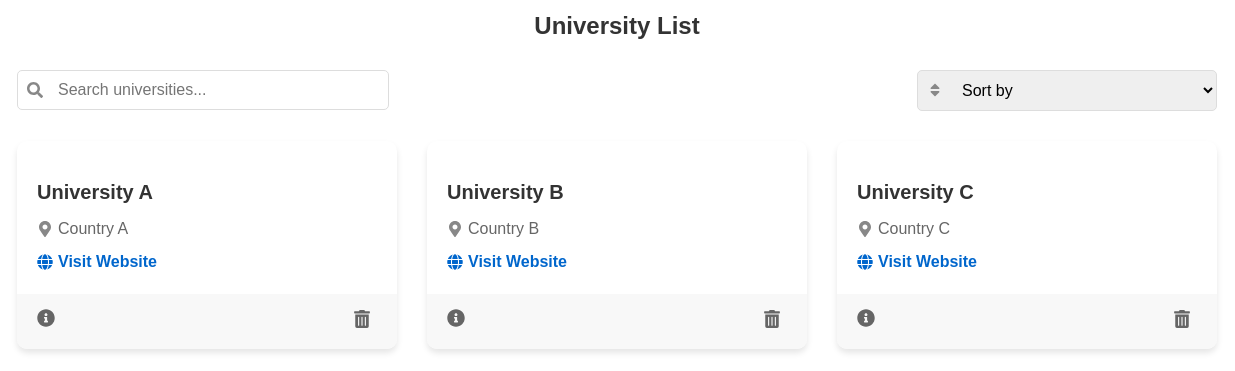
Test case: UniversityList › sorts universities in descending order
Select "Name Z-A" in the dropdown: (1067, 90) x1=917 y1=70 x2=1217 y2=111
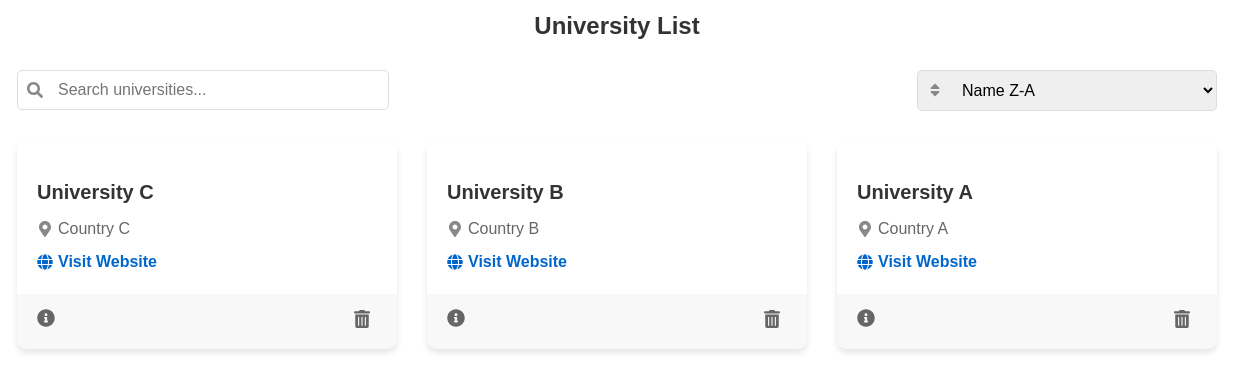
Check: the headings read "University C", "University B", "University A", in this order, box x1=37 y1=181 x2=154 y2=203; x1=447 y1=181 x2=564 y2=203; x1=857 y1=181 x2=973 y2=203
